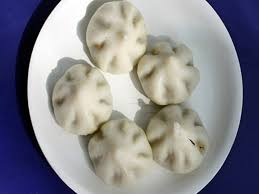modak: (141, 100, 219, 182), (51, 59, 120, 140), (127, 42, 209, 106), (87, 2, 156, 77), (89, 120, 162, 183)
